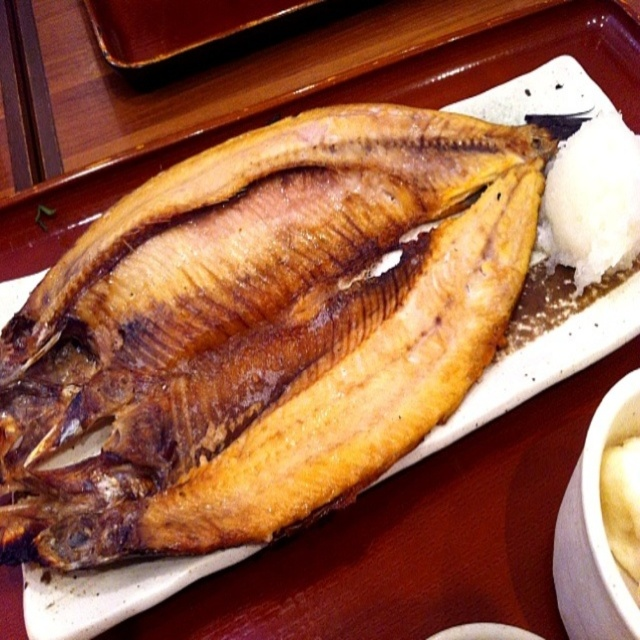Fish: (0, 55, 572, 581)
